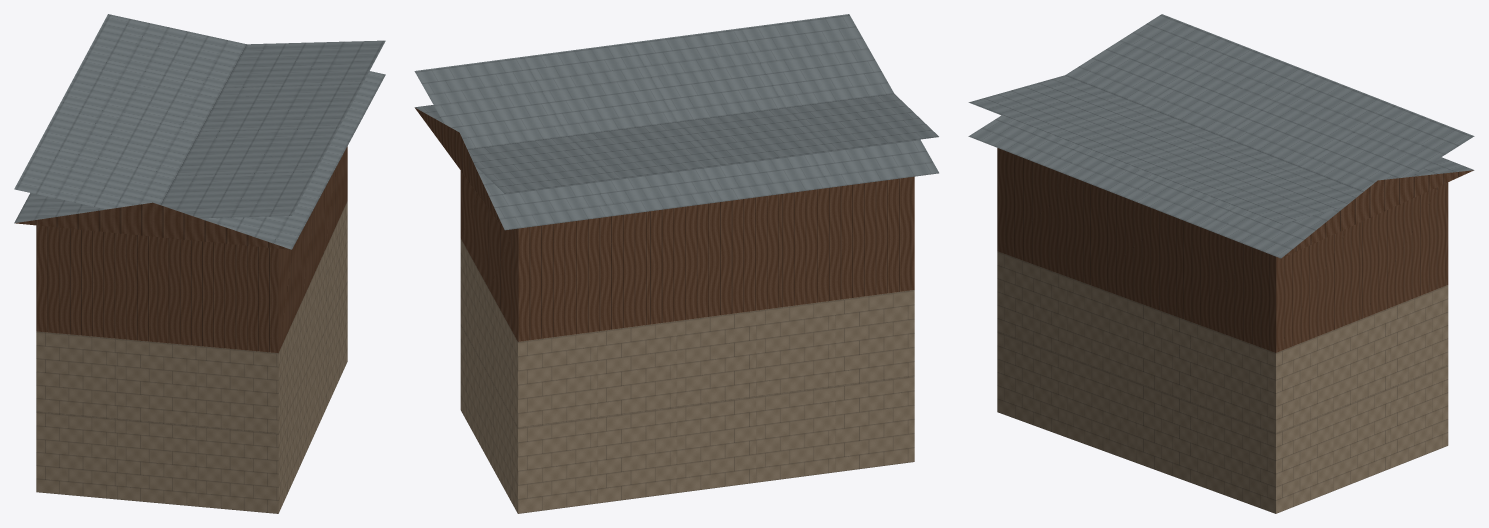
The model's file is bld_c-11_35_465.gltf.
3 renders of one model, left to right at view 1: azimuth 30°, elevation 25°; view 2: azimuth 150°, elevation 25°; view 3: azimuth 270°, elevation 25°, orthographic. The views are drawn at different scales.
Visible parts, largest first — view 1: bld_c-11_35_465; view 2: bld_c-11_35_465; view 3: bld_c-11_35_465.
Boxes of the visible parts, left/top/right/bottom form: bld_c-11_35_465: left=14, top=14, right=385, bottom=513; bld_c-11_35_465: left=414, top=14, right=938, bottom=513; bld_c-11_35_465: left=968, top=14, right=1474, bottom=513.
Bounding box in the file's own units: 13.3 × 9.1 × 13.51.
Materials: 4 (4 with a texture image).
